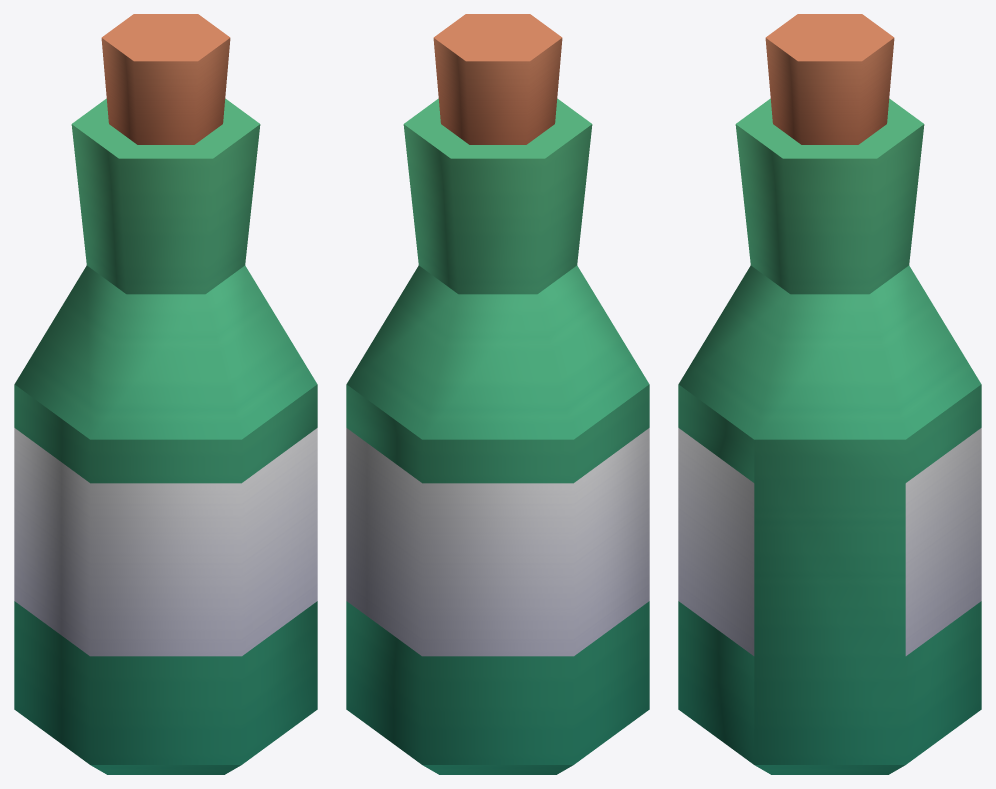
The model's file is bottle.obj.
3 views of the same model, side by side, from view 1: azimuth 30°, elevation 25°; view 2: azimuth 150°, elevation 25°; view 3: azimuth 270°, elevation 25° (orthographic).
Parts seen in each view (by area): view 1: bottle; view 2: bottle; view 3: bottle.
Boxes of the visible parts, x1,y1,x2,y2 form: bottle: [14, 14, 317, 774]; bottle: [346, 14, 649, 774]; bottle: [678, 14, 981, 774].
Size of the model in its own units: 0.0527 by 0.1539 by 0.0608.
Materials: 1 (1 with a texture image).
